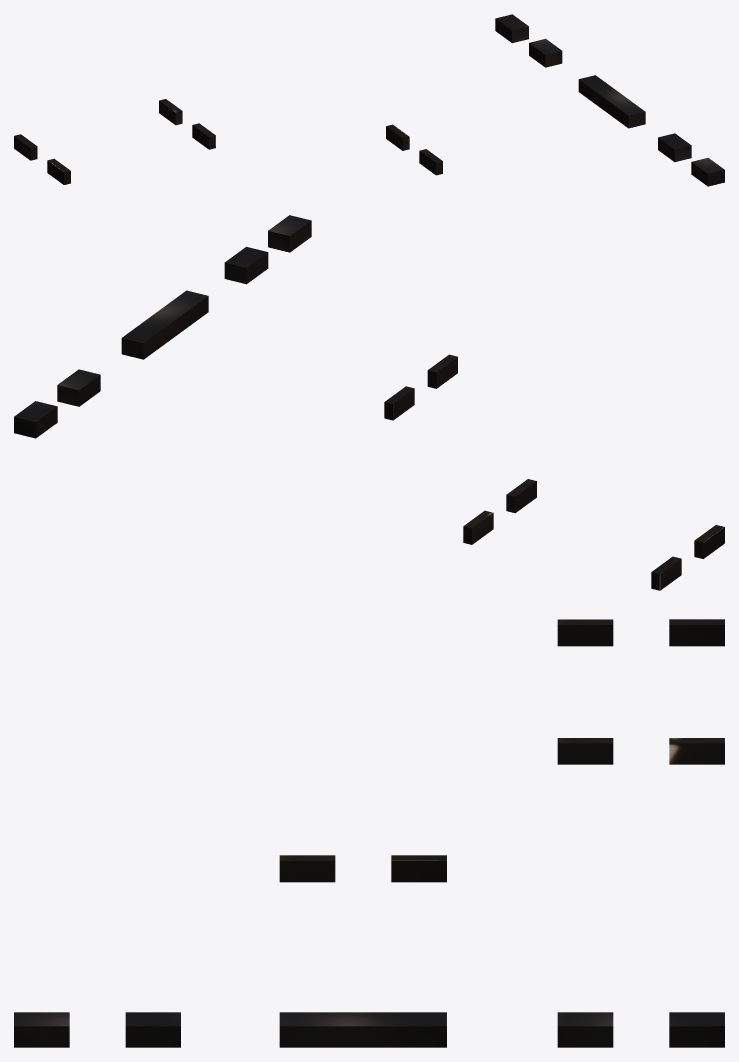
Rendered from post.glb.
The picture shows the model from 3 angles, top to bottom: view 1: azimuth 30°, elevation 25°; view 2: azimuth 150°, elevation 25°; view 3: azimuth 270°, elevation 25°; orthographic projection. The views are drawn at different scales.
Visible parts, largest first — view 1: post; view 2: post; view 3: post.
Boxes of the visible parts, <box> form: post: <box>14,14,724,186</box>; post: <box>14,215,724,590</box>; post: <box>14,619,724,1047</box>.
Size of the model in its own units: 43.29 by 1.1 by 31.97.
1 material, 1 textured.
